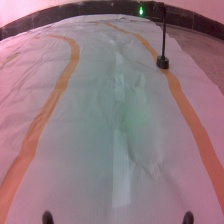green: (136, 1, 172, 73)
